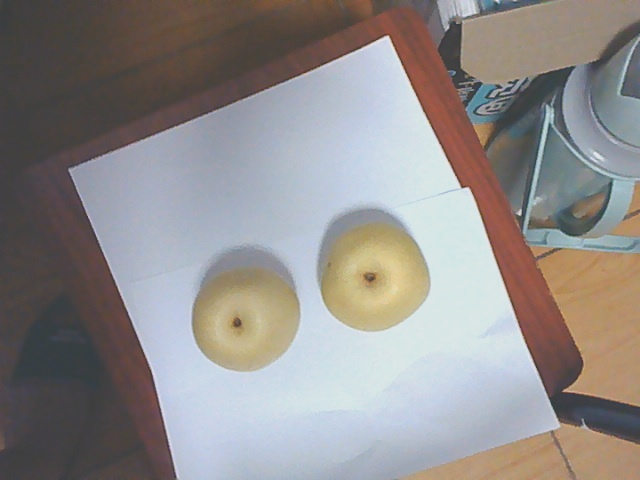pear: (321, 221, 434, 329), (191, 263, 296, 372)
